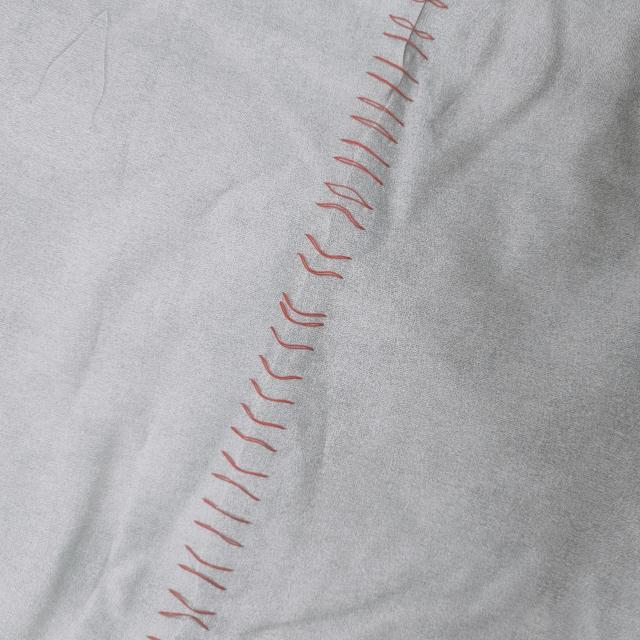gray stitch: (148, 234, 347, 632), (319, 0, 446, 239)
